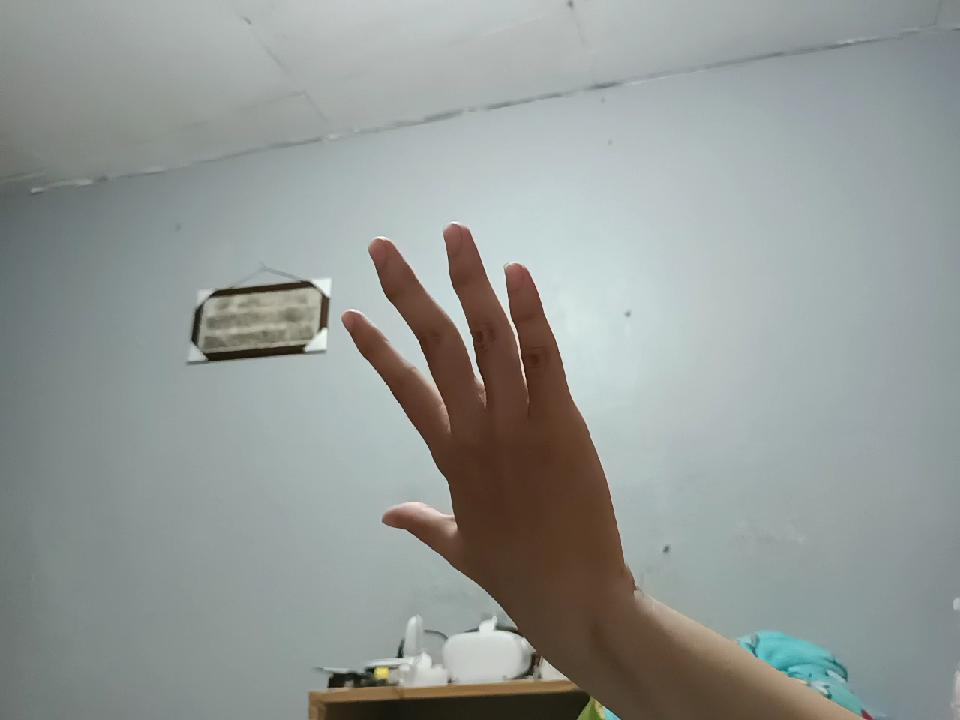paper: (352, 206, 596, 625)
